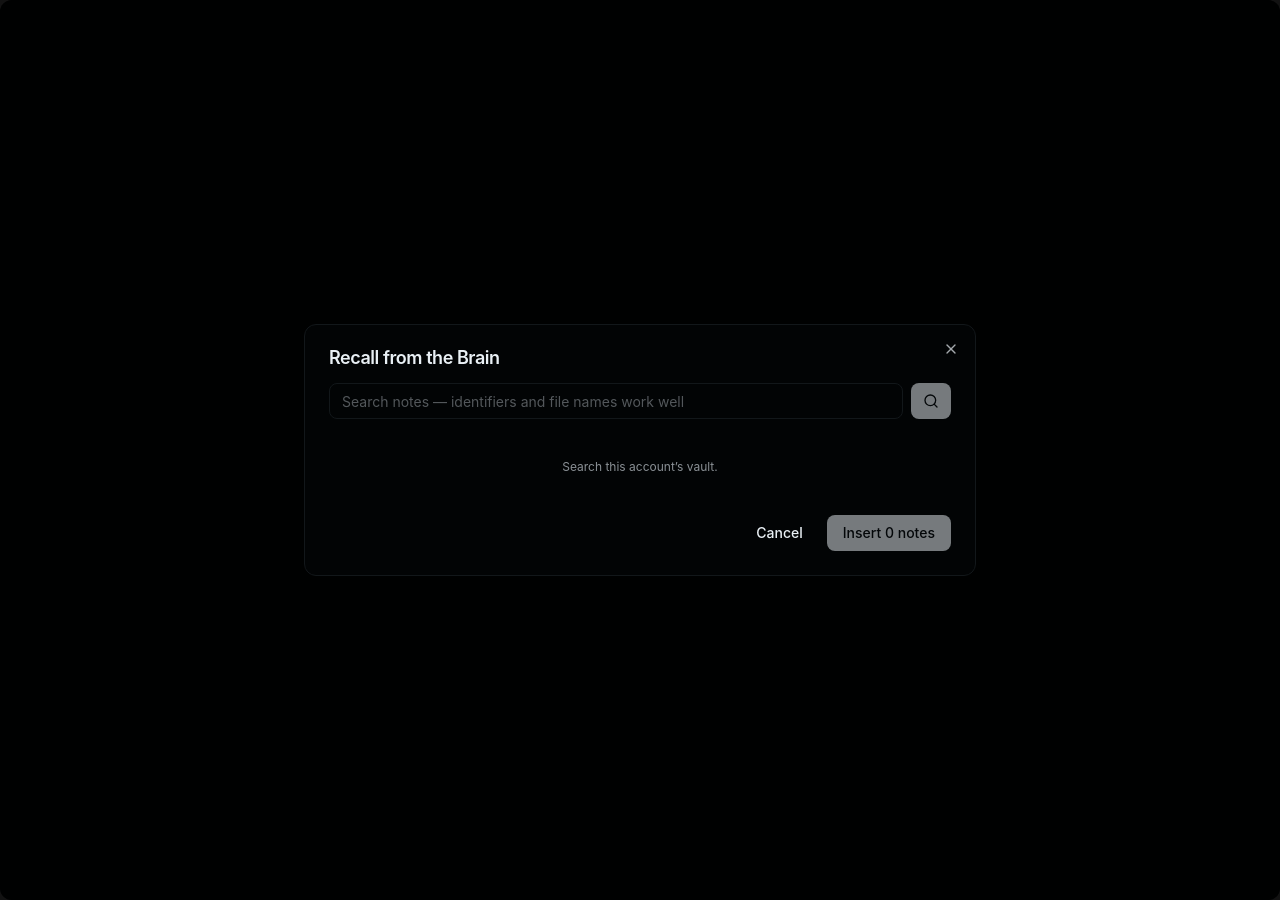
Scenario: RecallDialog › keeps the dialog open when a selected note cannot be read
Type "drain" into the field named "Search the Brain" at (616, 401), box [329,383,903,419]
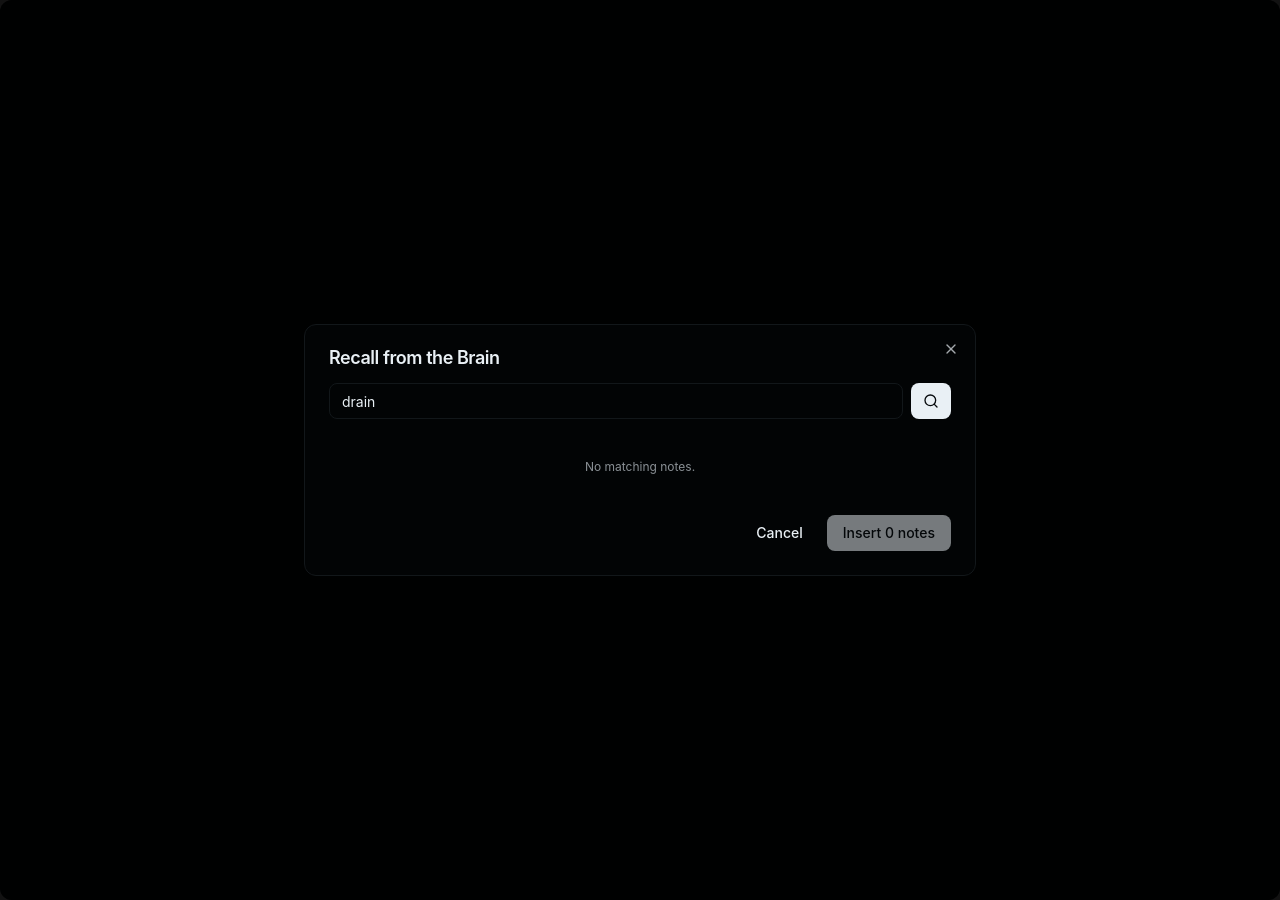
Submit the form named "Search the Brain", box [329,383,951,419]
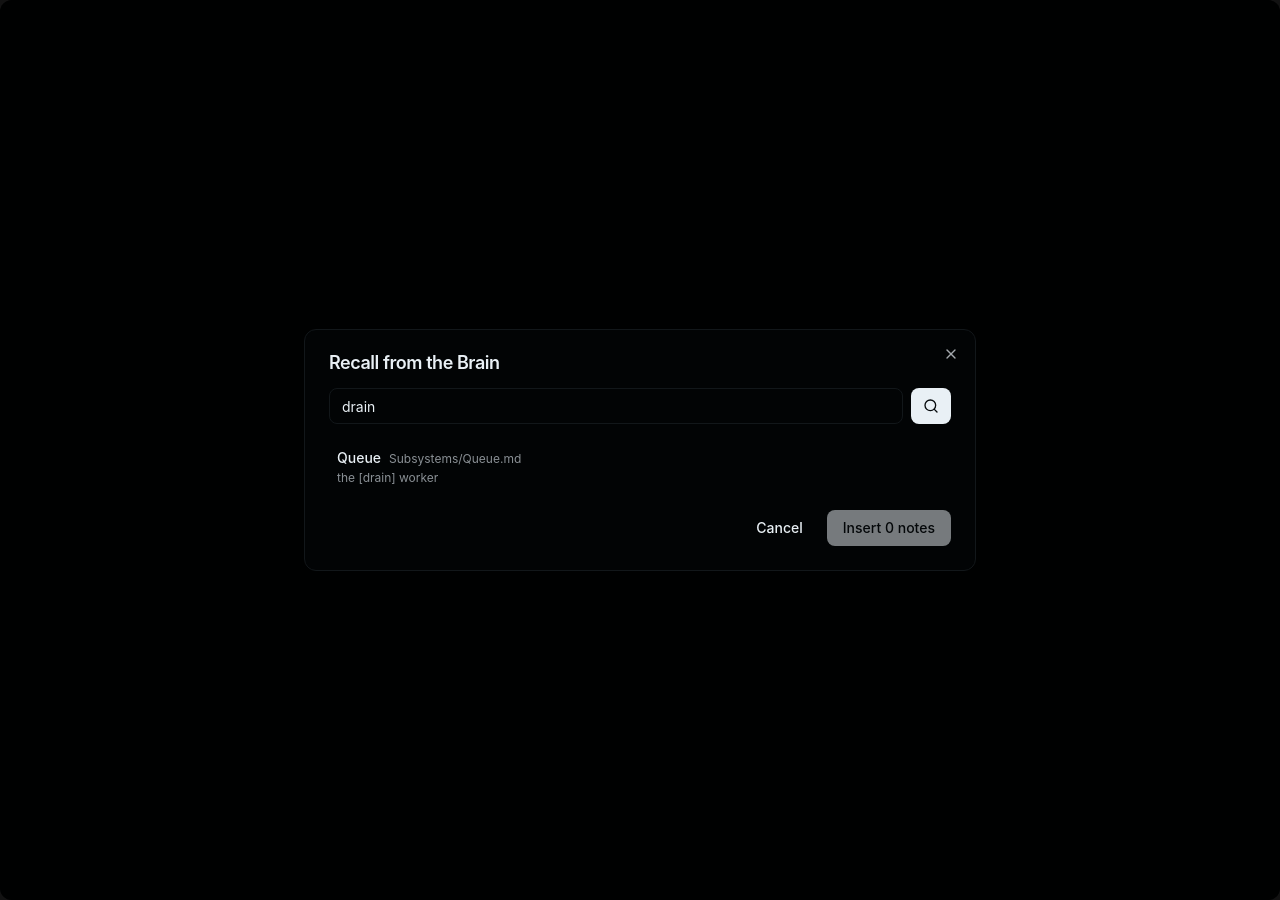
Result: the text "Queue" is shown
Click the text "Queue" at (359, 458), box [337,448,381,468]
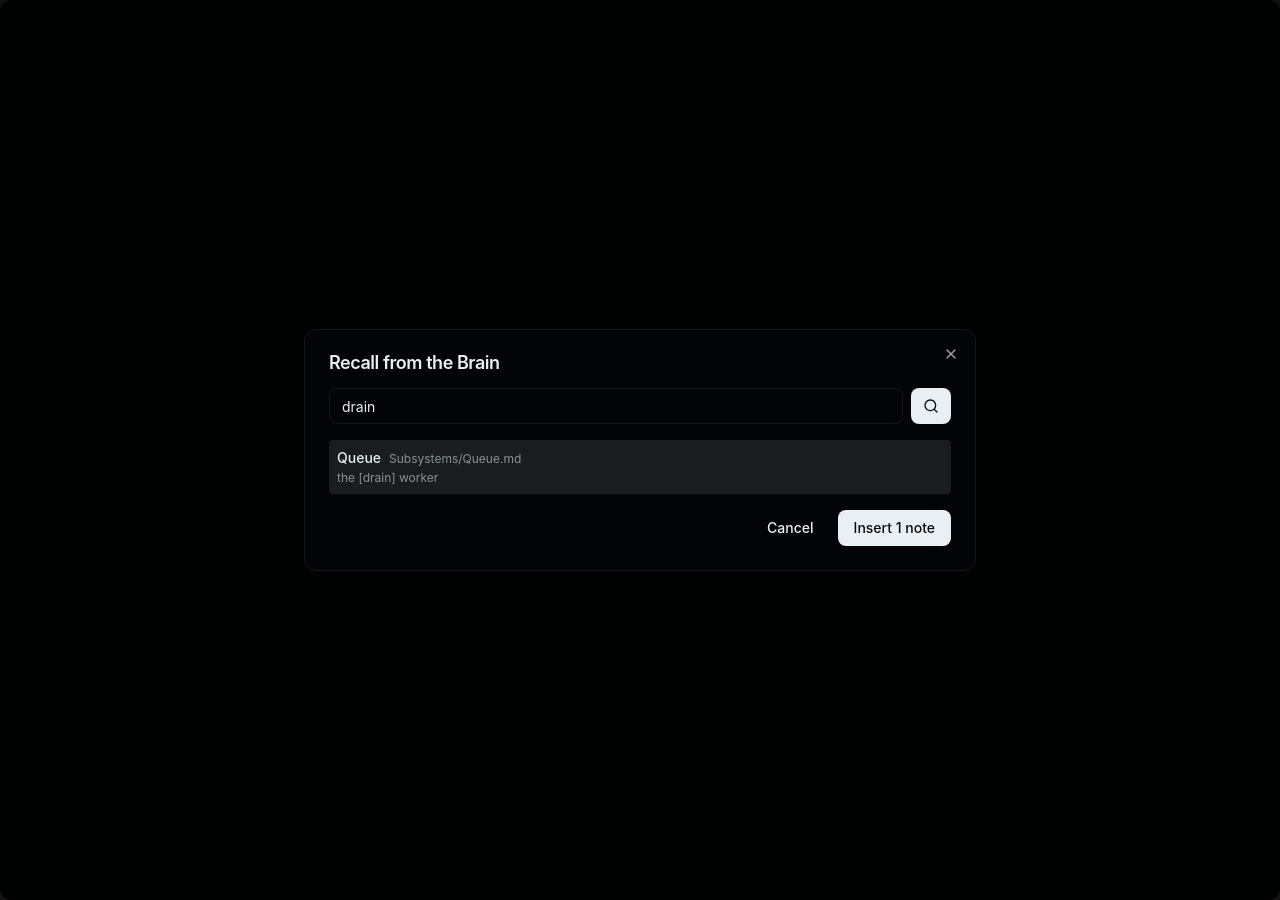
Click the button "Insert 1 note" at (894, 528), box [838,510,951,546]
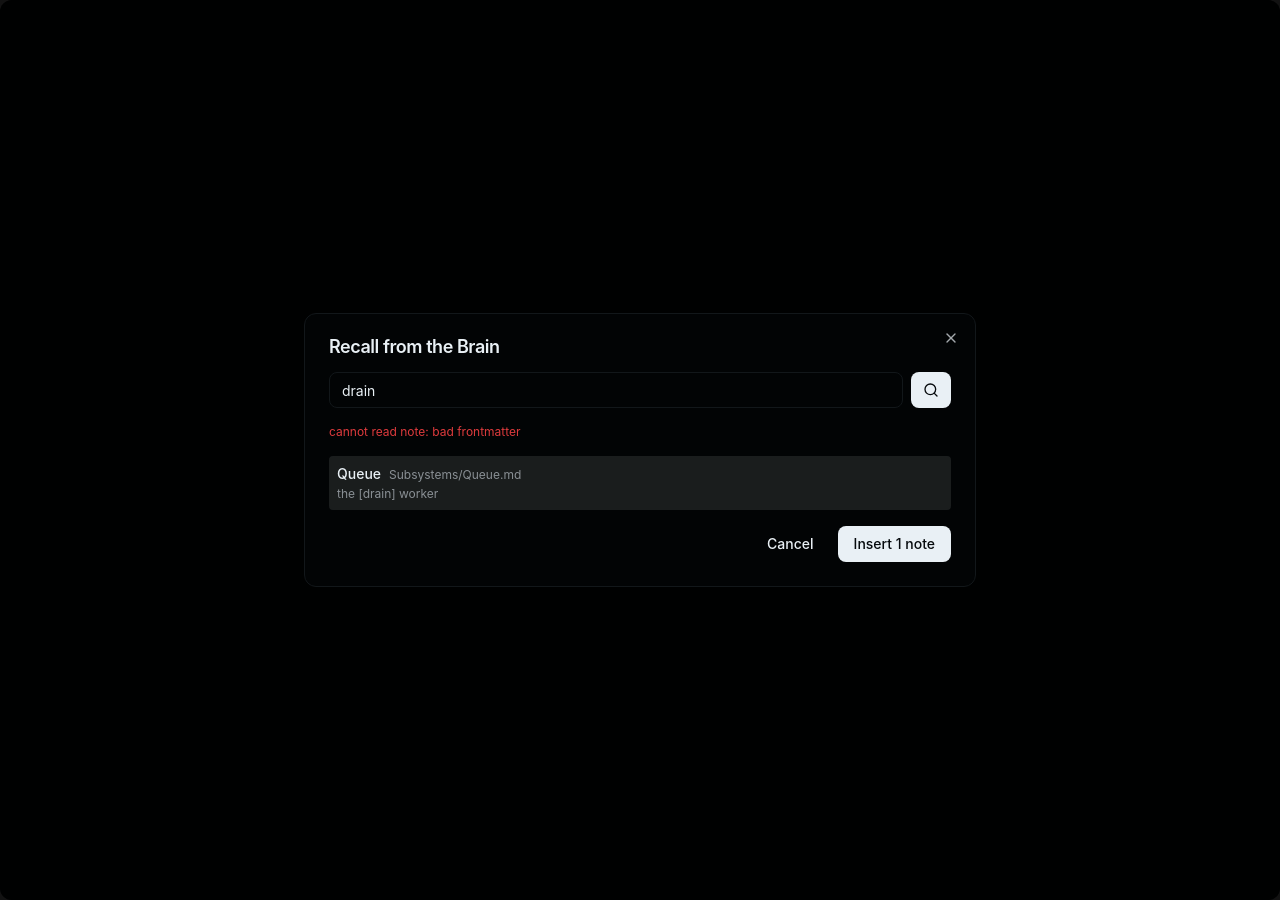
Result: the text "cannot read note: bad frontmatter" is shown at [329,424,521,439]
